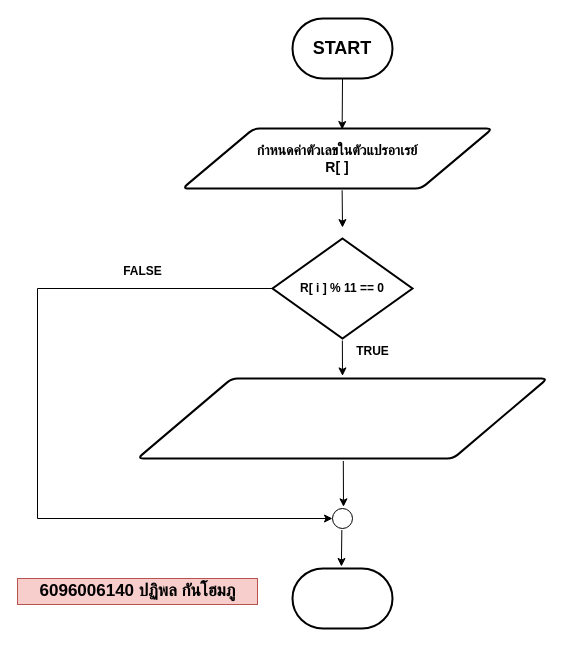
The diagram is 566 pixels wide and 646 high, and some of its shapes have lost their labels. Each missing label, with the box of its shape:
END: (291, 567, 393, 629)
แสดงผล 1) จำนวนที่หาร 11 แล้ว == 0 2) Index ของจำนวนที่หาร 11 แล้ว == 0: (136, 377, 548, 459)
